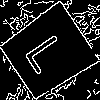L: (23, 26, 76, 76)
